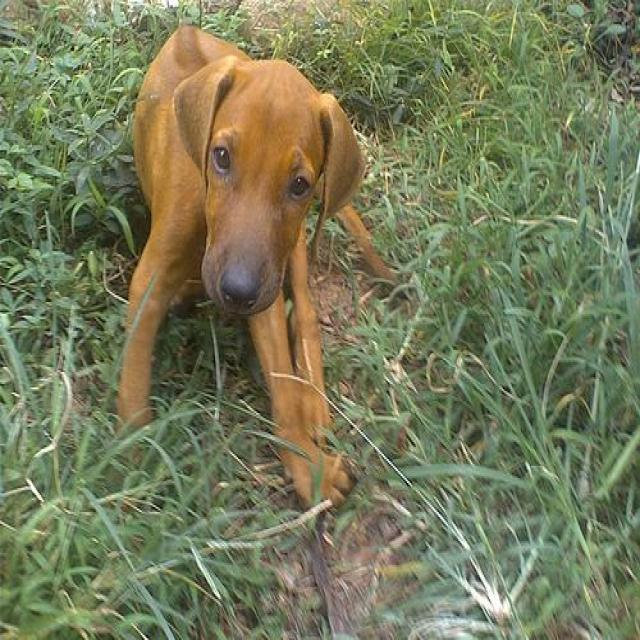dog: (103, 0, 408, 524)
